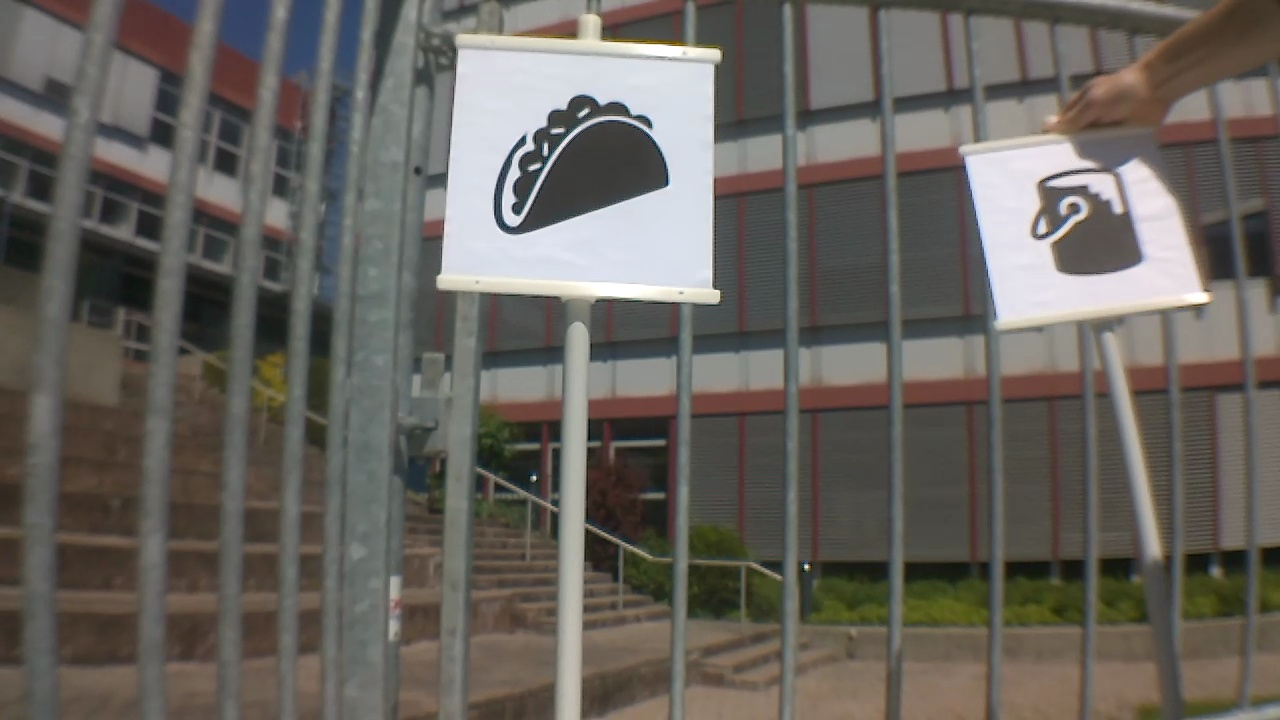bucket: (1026, 165, 1147, 283)
taco: (488, 99, 675, 229)
